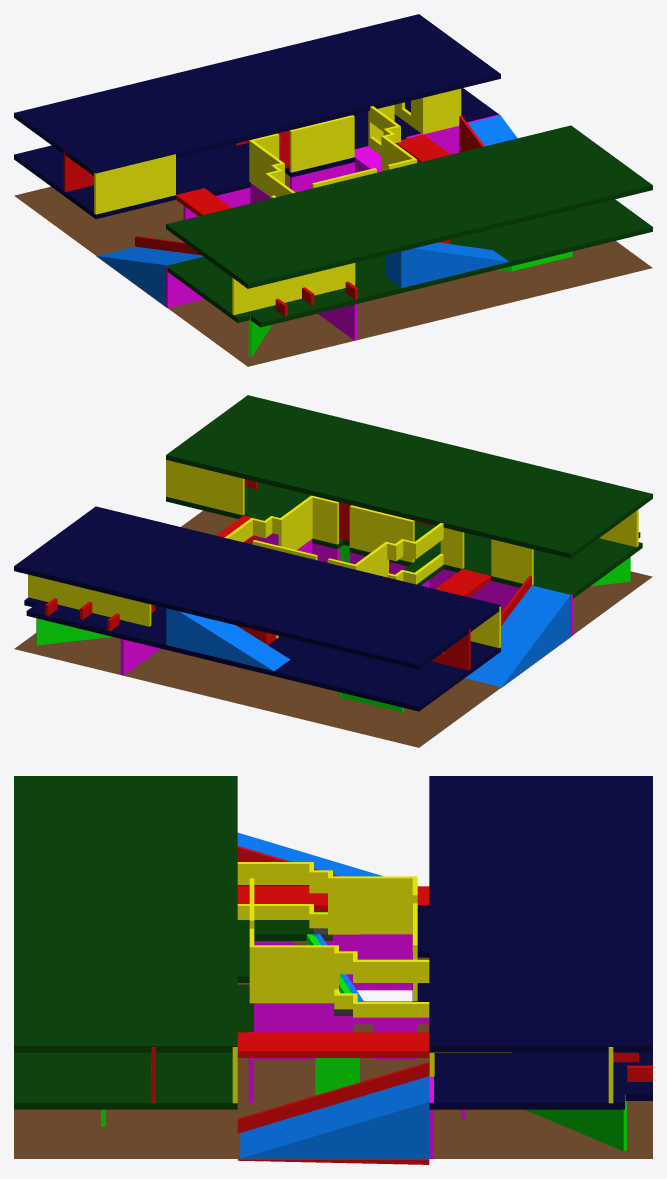
3 renders of one model, top to bottom at view 1: azimuth 30°, elevation 25°; view 2: azimuth 150°, elevation 25°; view 3: azimuth 270°, elevation 25°, orthographic. The views are drawn at different scales.
Parts seen in each view (by area): view 1: Cube.094, Cube.045, Plane, Cube.002, Cube.019, Cube.081, Cube.056, Cube.078, Cube.072, Cube, Cube.043, Cube.062 (+14 smaller); view 2: Cube.045, Cube.094, Plane, Cube.019, Cube.002, Cube, Cube.040, Cube.080, Cube.054, Cube.073, Cube.074, Cube.053 (+12 smaller); view 3: Cube.045, Cube.094, Plane, Cube.002, Cube.019, Cube.001, Cube.053, Cube.062, Cube.089, Cube.003, Cube.049, Cube.007 (+14 smaller).
Part boxes in pixels (box(x1,y1,x2,y2)): Cube.094: box(166, 125, 652, 288); Cube.045: box(14, 14, 500, 175); Plane: box(14, 173, 652, 366); Cube.002: box(166, 199, 652, 327); Cube.019: box(14, 88, 499, 219); Cube.081: box(385, 242, 508, 288); Cube.056: box(94, 154, 175, 214); Cube.078: box(232, 263, 355, 314); Cube.072: box(289, 115, 354, 172); Cube: box(96, 247, 203, 306); Cube.043: box(422, 88, 461, 134); Cube.062: box(249, 140, 284, 196); Cube.045: box(14, 506, 500, 669); Cube.094: box(166, 395, 652, 558); Plane: box(14, 510, 652, 747); Cube.019: box(24, 597, 500, 711); Cube.002: box(166, 482, 642, 599); Cube: box(465, 585, 570, 688); Cube.040: box(166, 608, 290, 671); Cube.080: box(166, 460, 244, 515); Cube.054: box(28, 574, 151, 626); Cube.073: box(349, 505, 414, 562); Cube.074: box(491, 539, 533, 585); Cube.053: box(278, 495, 313, 549); Cube.045: box(429, 776, 652, 1052); Cube.094: box(14, 776, 237, 1052); Plane: box(14, 941, 652, 1158); Cube.002: box(14, 1052, 237, 1109); Cube.019: box(429, 1052, 652, 1109); Cube.001: box(237, 1076, 429, 1159); Cube.053: box(249, 945, 338, 1003); Cube.062: box(328, 876, 417, 934); Cube.089: box(237, 1032, 429, 1057); Cube.003: box(237, 1062, 429, 1164); Cube.049: box(353, 959, 429, 1017); Cube.007: box(253, 1003, 353, 1059).
Size of the model in its own units: 20.03 by 20 by 5.03.
